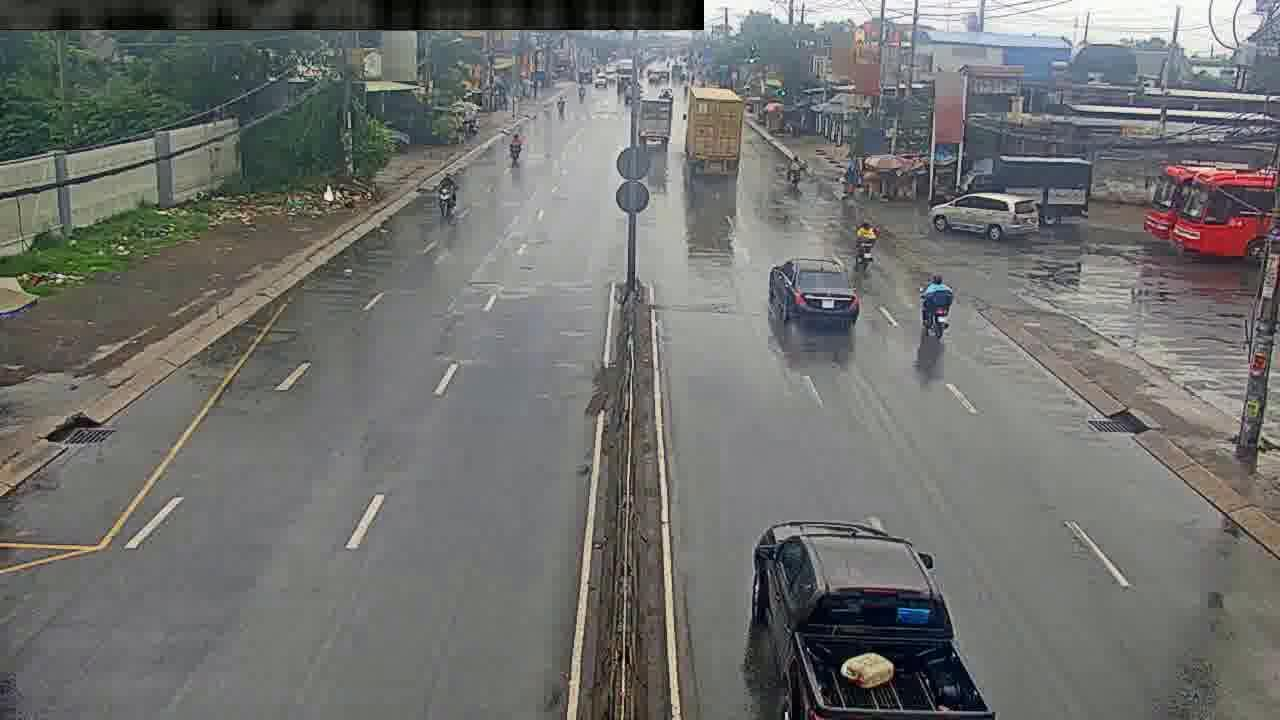8: (685, 93, 746, 174), (638, 100, 669, 145)
container: (750, 522, 1000, 720), (770, 257, 860, 327)
motorbike: (921, 269, 953, 340), (855, 216, 878, 270), (438, 169, 456, 216), (786, 152, 802, 188), (508, 123, 522, 164)
